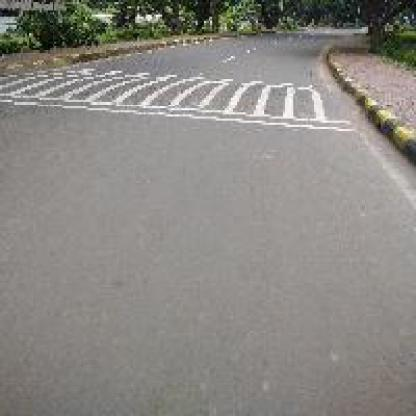Speed Bump: (0, 66, 350, 134)
